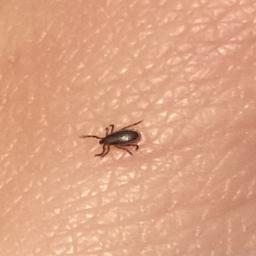Ixodes scapularis: (80, 119, 145, 157)
